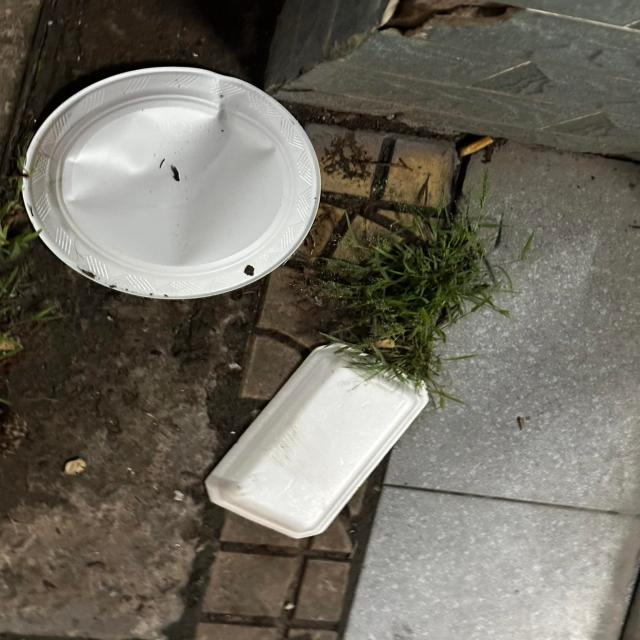foam box: (202, 342, 431, 540)
plastic holder: (24, 66, 324, 302)
